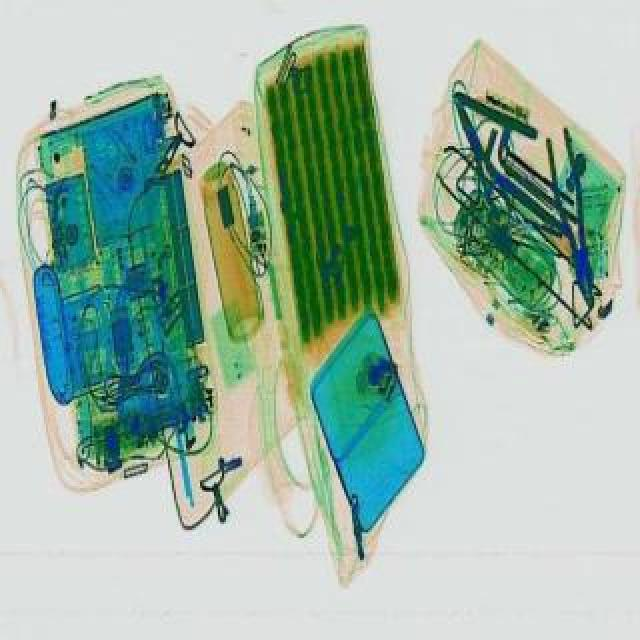wrench: (540, 130, 604, 314), (442, 98, 518, 224)
